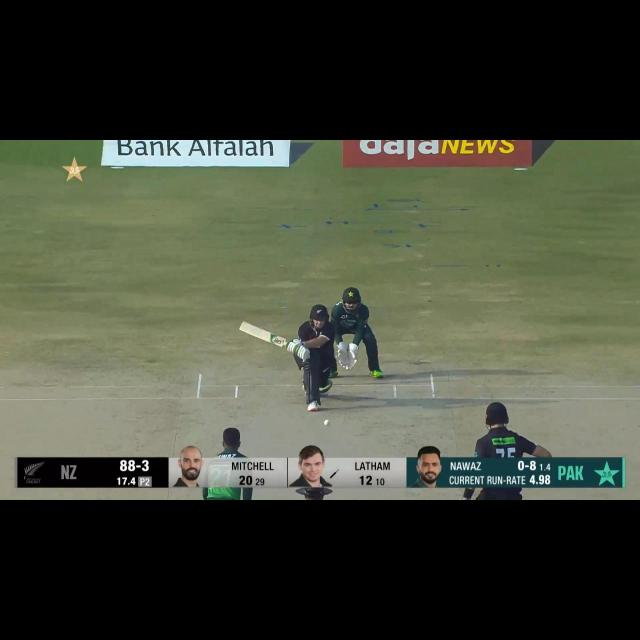bat: (233, 318, 290, 348)
toe: (235, 318, 252, 336)
